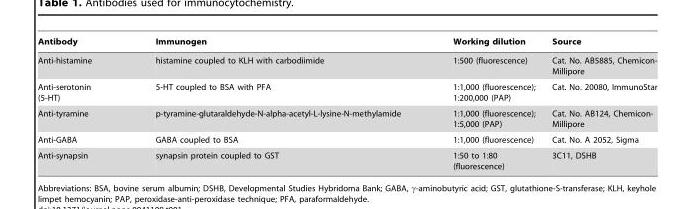table: (36, 36, 656, 170)
table column: (122, 36, 426, 170), (426, 36, 543, 170), (543, 36, 656, 170), (36, 36, 122, 170)
table column header: (36, 36, 656, 50)
table row: (36, 50, 656, 78), (36, 78, 656, 105), (36, 105, 656, 131), (36, 147, 656, 170), (36, 131, 656, 147), (36, 36, 656, 50)
